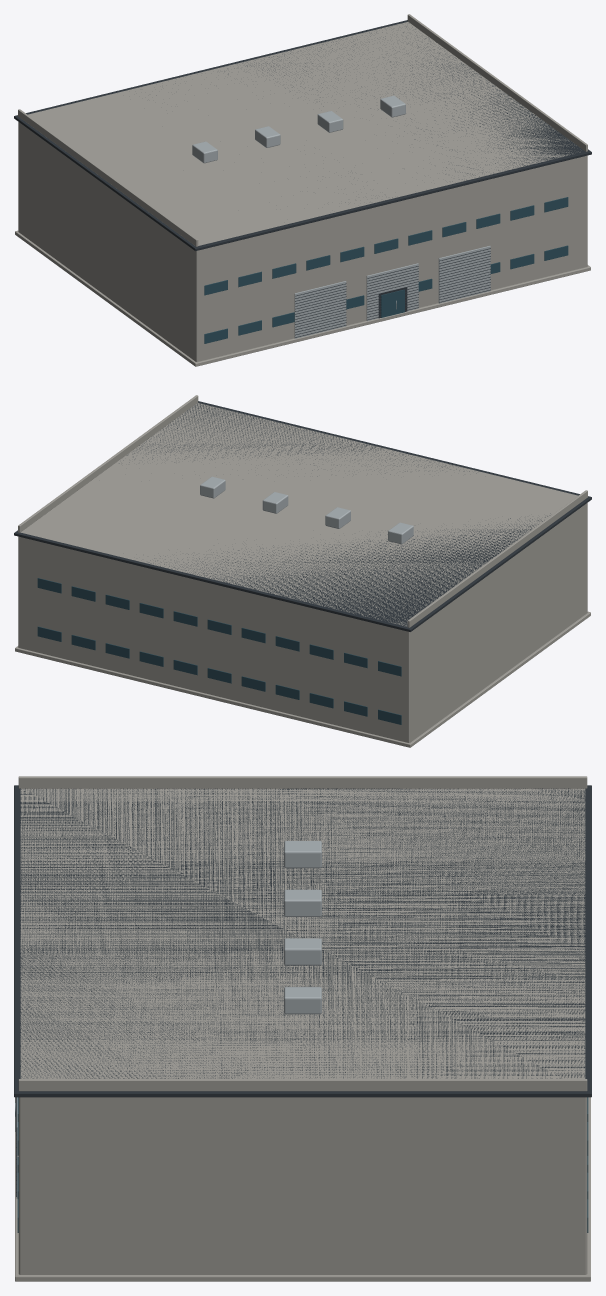
Rendered from SM_Warehouse.fbx.
3 views of the same model, one above another, from view 1: azimuth 30°, elevation 25°; view 2: azimuth 150°, elevation 25°; view 3: azimuth 270°, elevation 25° (orthographic). The views are drawn at different scales.
Parts seen in each view (by area): view 1: SM_Warehouse; view 2: SM_Warehouse; view 3: SM_Warehouse.
Part boxes in pixels (bbox=[...]): SM_Warehouse: bbox=[14, 14, 591, 366]; SM_Warehouse: bbox=[14, 395, 591, 747]; SM_Warehouse: bbox=[14, 776, 591, 1281].
Size of the model in its own units: 3850 by 3050 by 1200.
